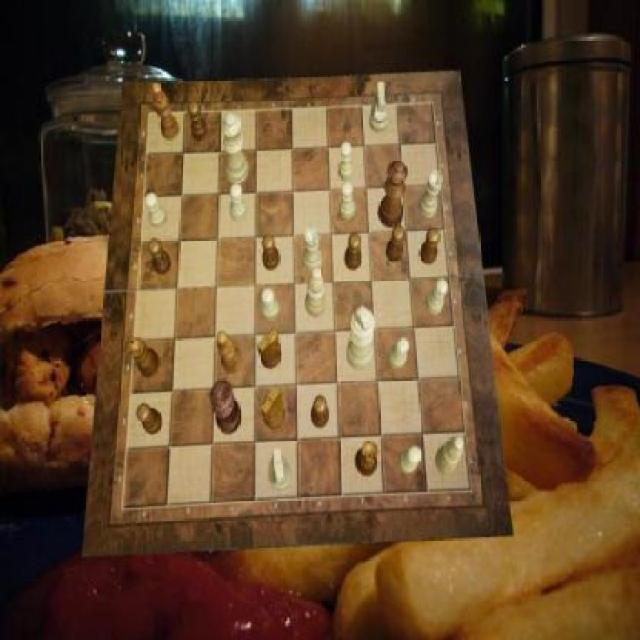bishop: (152, 82, 180, 139), (217, 330, 241, 374)
black-bishop: (211, 378, 241, 434)
black-king: (260, 386, 285, 430), (257, 329, 281, 369)
black-knight: (137, 403, 163, 435), (188, 102, 208, 142), (148, 238, 170, 274), (386, 226, 406, 262), (420, 228, 440, 264), (311, 396, 330, 430), (346, 232, 363, 270), (262, 234, 279, 270)
black-pawn: (378, 160, 408, 228)
black-queen: (129, 337, 160, 377), (357, 440, 380, 476)
black-rook: (437, 437, 465, 477), (304, 268, 326, 317)
white-bishop: (348, 306, 375, 370)
white-king: (270, 448, 292, 490), (371, 81, 388, 132)
white-knight: (424, 278, 448, 314), (145, 192, 167, 228), (338, 143, 356, 182), (230, 183, 248, 221), (398, 446, 422, 474), (340, 182, 357, 220), (388, 337, 408, 369), (262, 288, 280, 320)
white-pawn: (222, 114, 249, 186)
white-queen: (418, 171, 442, 218), (303, 228, 323, 273)
